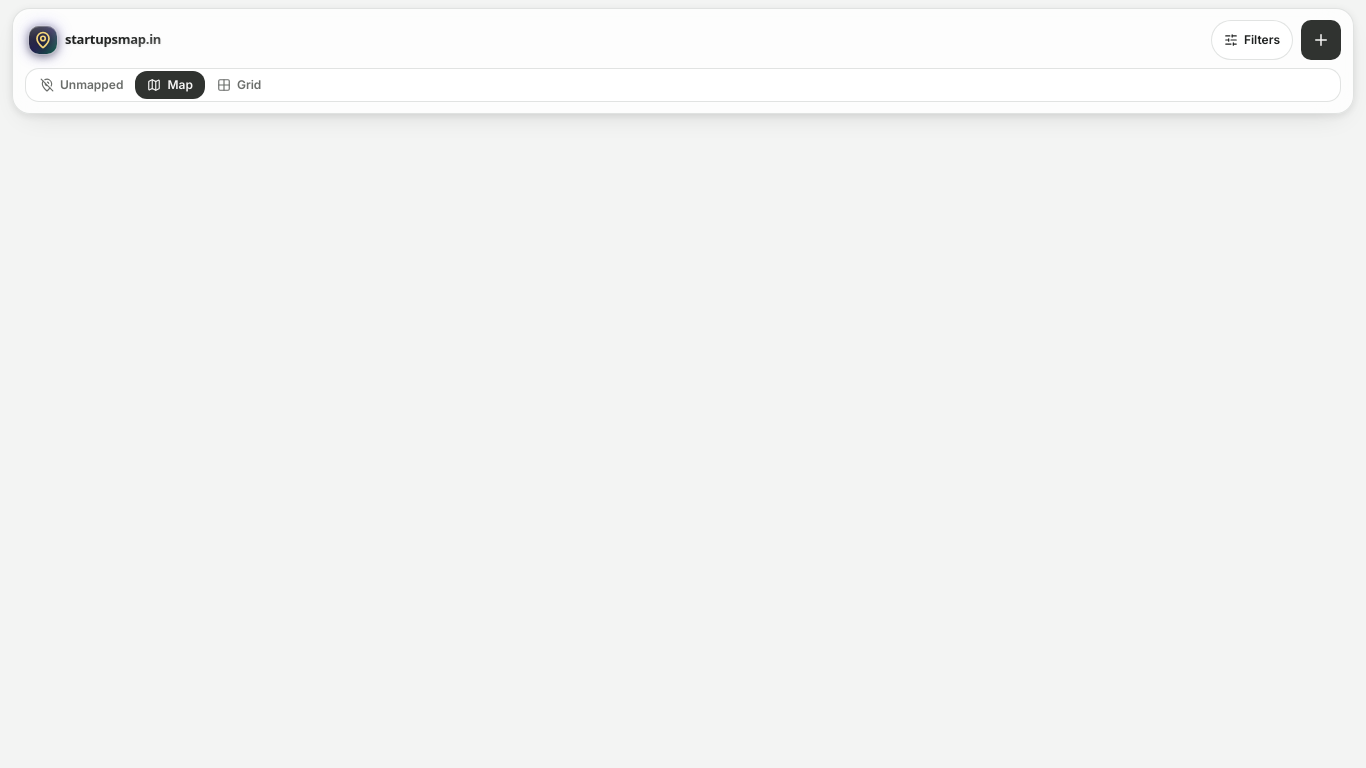
Test case: MobileToolbar › opens the FilterTray on Filters click and toggles aria-expanded
The width and height of the screenshot is (1366, 768).
Step 1. Click the button with aria-label "Toggle filters" → (1252, 40), box [1211,20,1293,60]
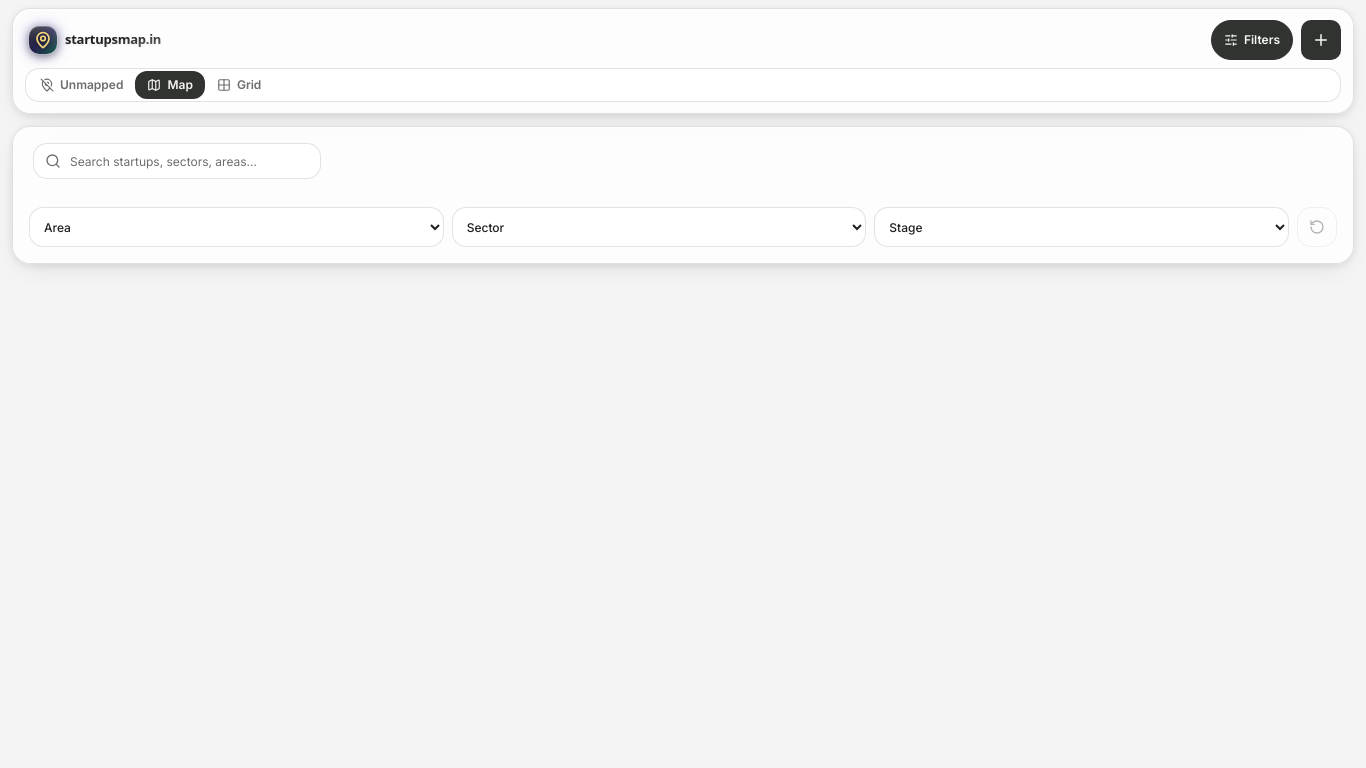
Expected: the dialog named "Filters" is shown, [12,126,1354,264]
Expected: the button with aria-label "Toggle filters" is expanded, [1211,20,1293,60]
